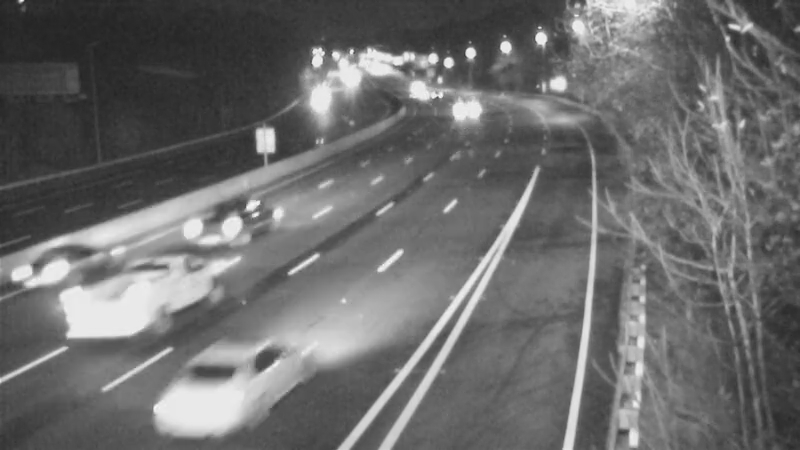vehicle: (48, 259, 158, 369), (150, 345, 260, 450), (178, 180, 258, 260), (7, 228, 87, 308), (411, 64, 461, 114), (440, 85, 490, 135), (297, 67, 347, 117)
